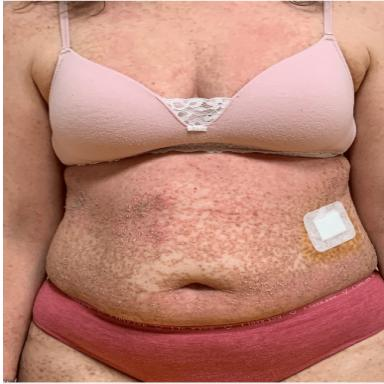Darier_s-Disease: (45, 157, 379, 325)
